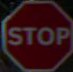Stop: (3, 1, 69, 68)
